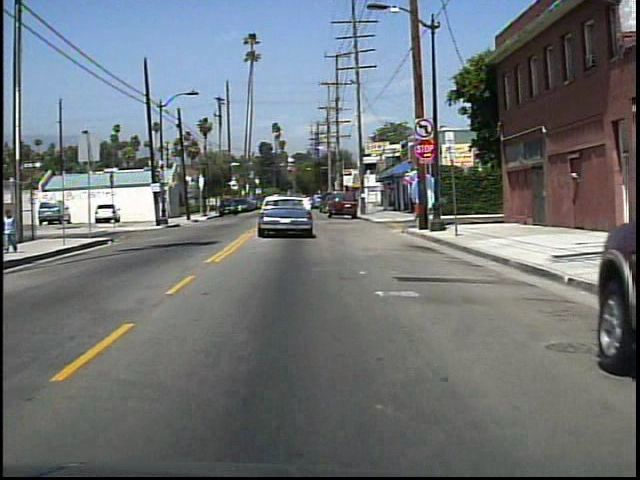person: (5, 205, 25, 255)
